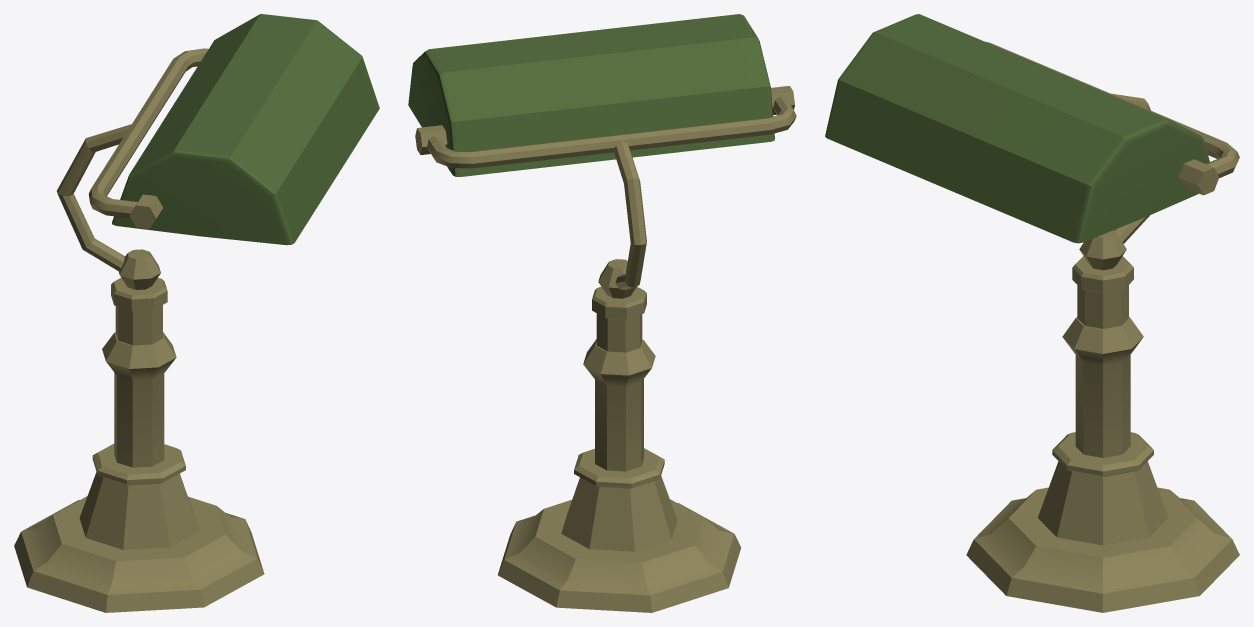
The model's file is lamp.fbx.
3 views of the same model, side by side, from view 1: azimuth 30°, elevation 25°; view 2: azimuth 150°, elevation 25°; view 3: azimuth 270°, elevation 25° (orthographic). The views are drawn at different scales.
Parts seen in each view (by area): view 1: pCylinder25, pCylinder20, pCylinder22, pCylinder21, pCylinder23; view 2: pCylinder25, pCylinder20, pCylinder22, pCylinder21, pCylinder24; view 3: pCylinder25, pCylinder20, pCylinder22, pCylinder24, pCylinder21.
Boxes of the visible parts, x1,y1,x2,y2 form: pCylinder25: (112,14,379,245); pCylinder20: (14,249,264,612); pCylinder22: (88,48,208,218); pCylinder21: (57,124,131,270); pCylinder23: (129,194,162,228); pCylinder25: (408,14,774,176); pCylinder20: (498,259,741,612); pCylinder22: (427,96,796,168); pCylinder21: (613,141,646,290); pCylinder24: (415,125,447,154); pCylinder25: (825,14,1209,243); pCylinder20: (966,230,1239,612); pCylinder22: (985,41,1239,178); pCylinder24: (1178,159,1219,195); pCylinder21: (1111,93,1150,243).
Bounding box in the file's own units: 1.8 × 2.47 × 1.8.
